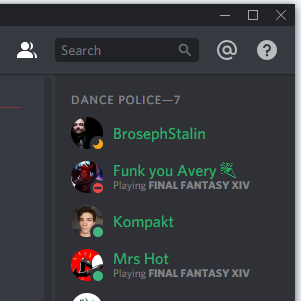close: (268, 3, 294, 25)
